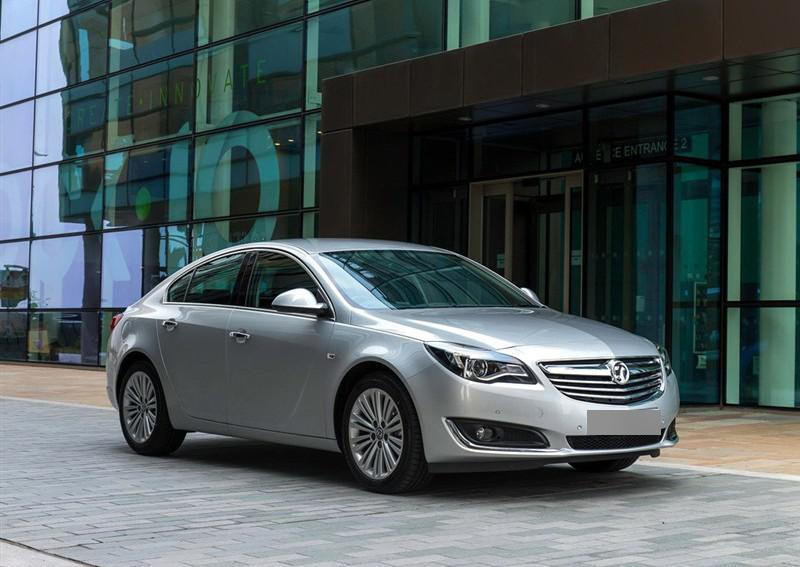Wagon: (107, 238, 683, 495)
